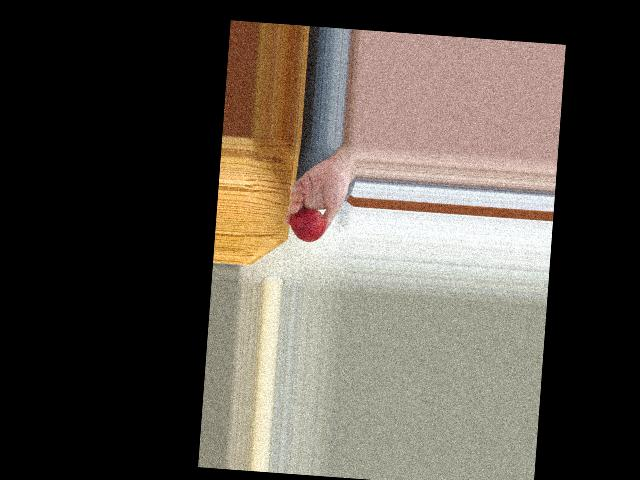apple: (290, 207, 327, 245)
